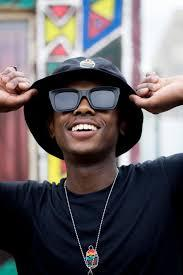cap: (18, 54, 153, 158)
sunglasses: (43, 75, 120, 119)
